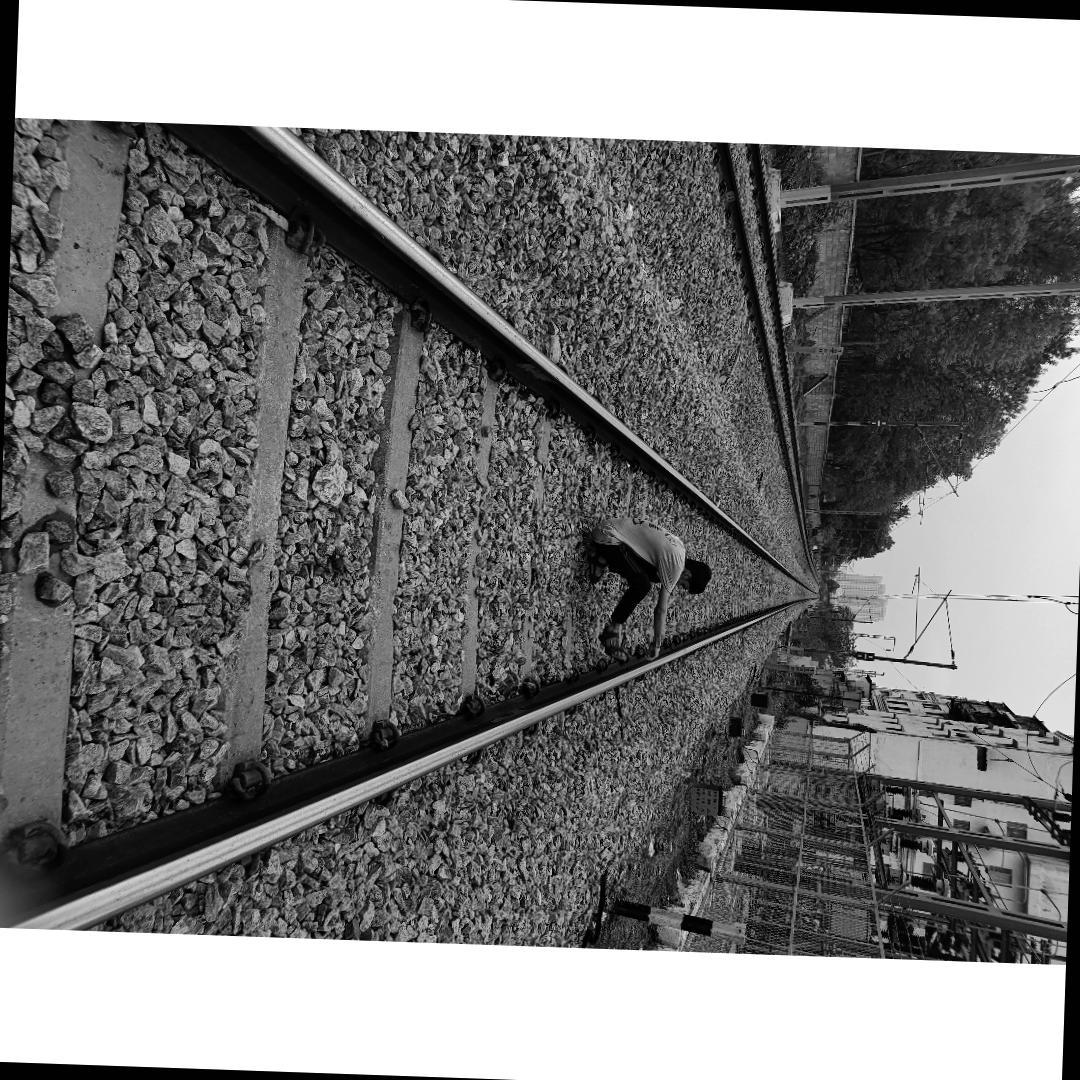sitting: (582, 513, 714, 663)
track: (0, 122, 819, 927)
